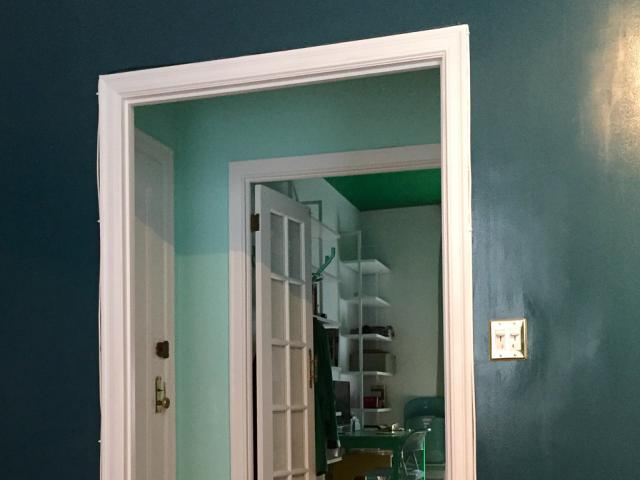Door-handle: (156, 377, 170, 413), (308, 347, 319, 389)
